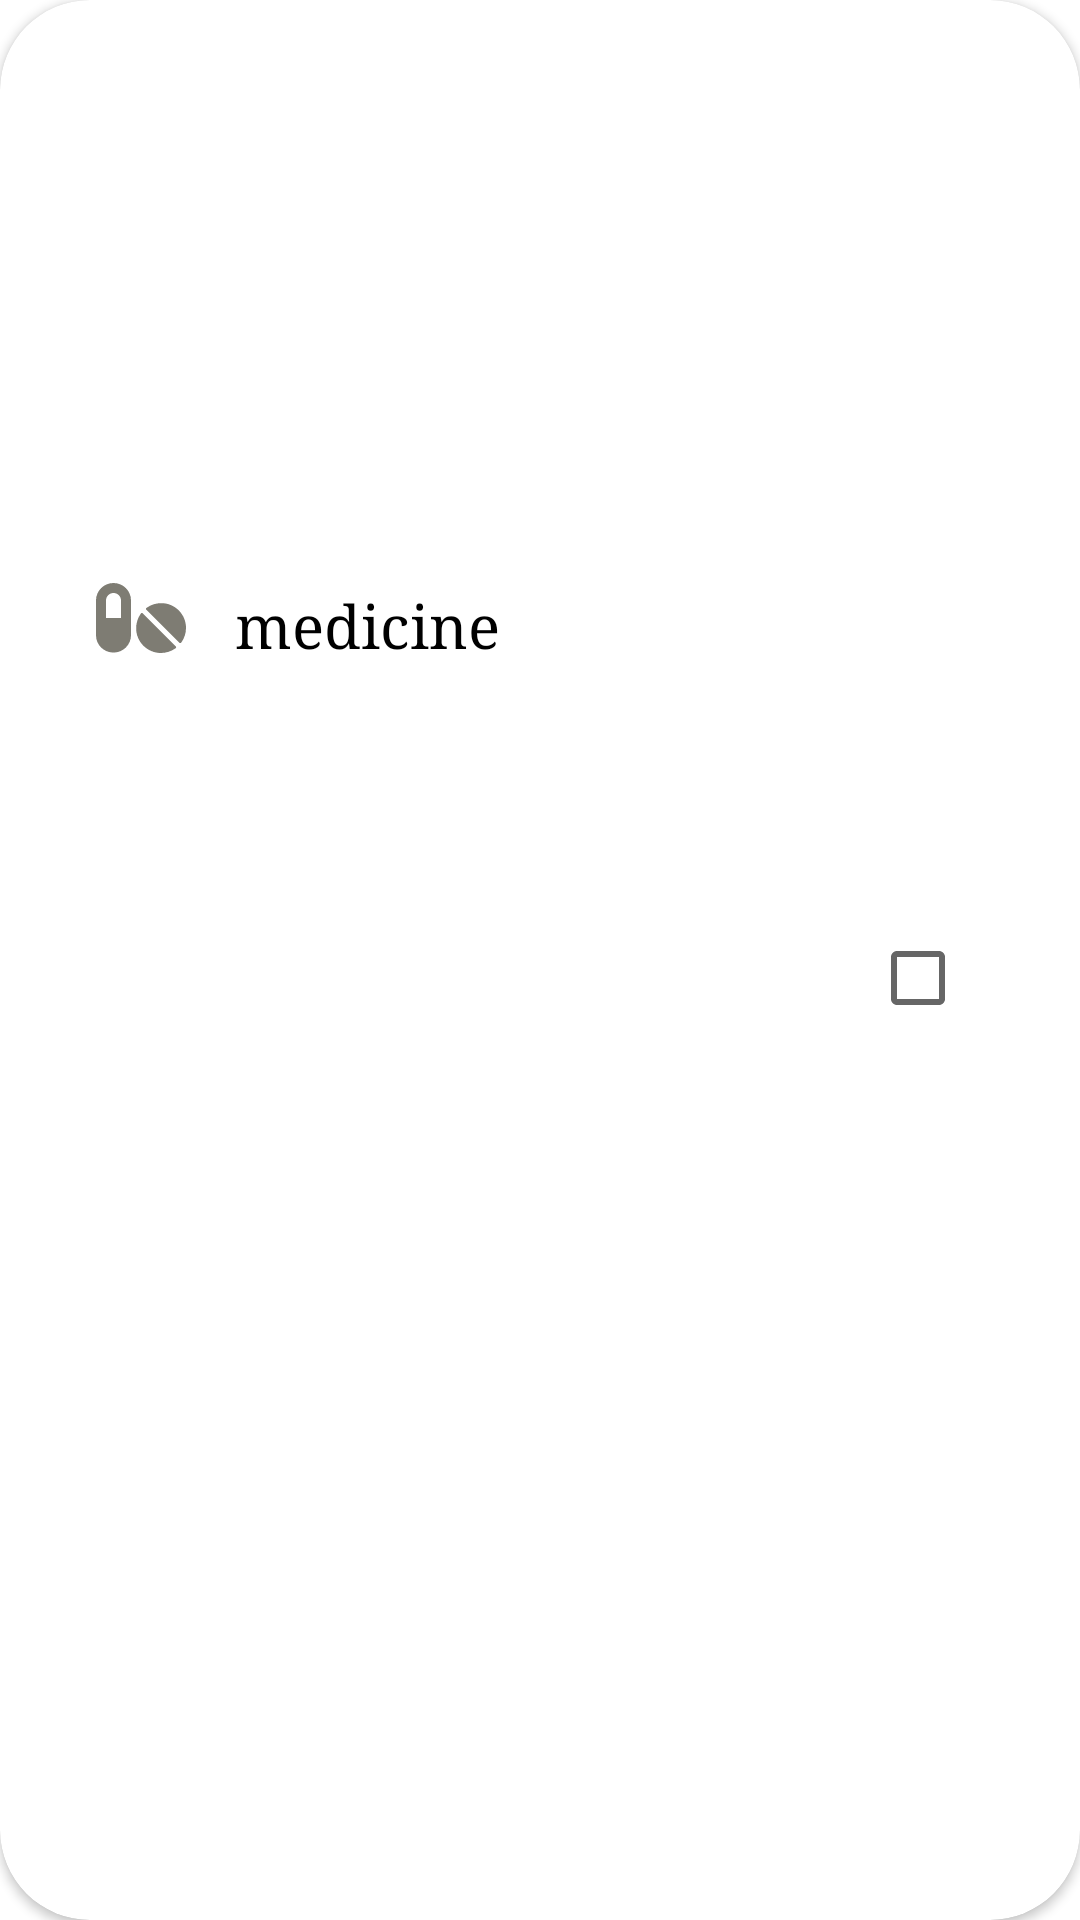

Icon click points for this 1080px x 1920px phone screenshot, format point (x, y):
pills: point (141, 618)
